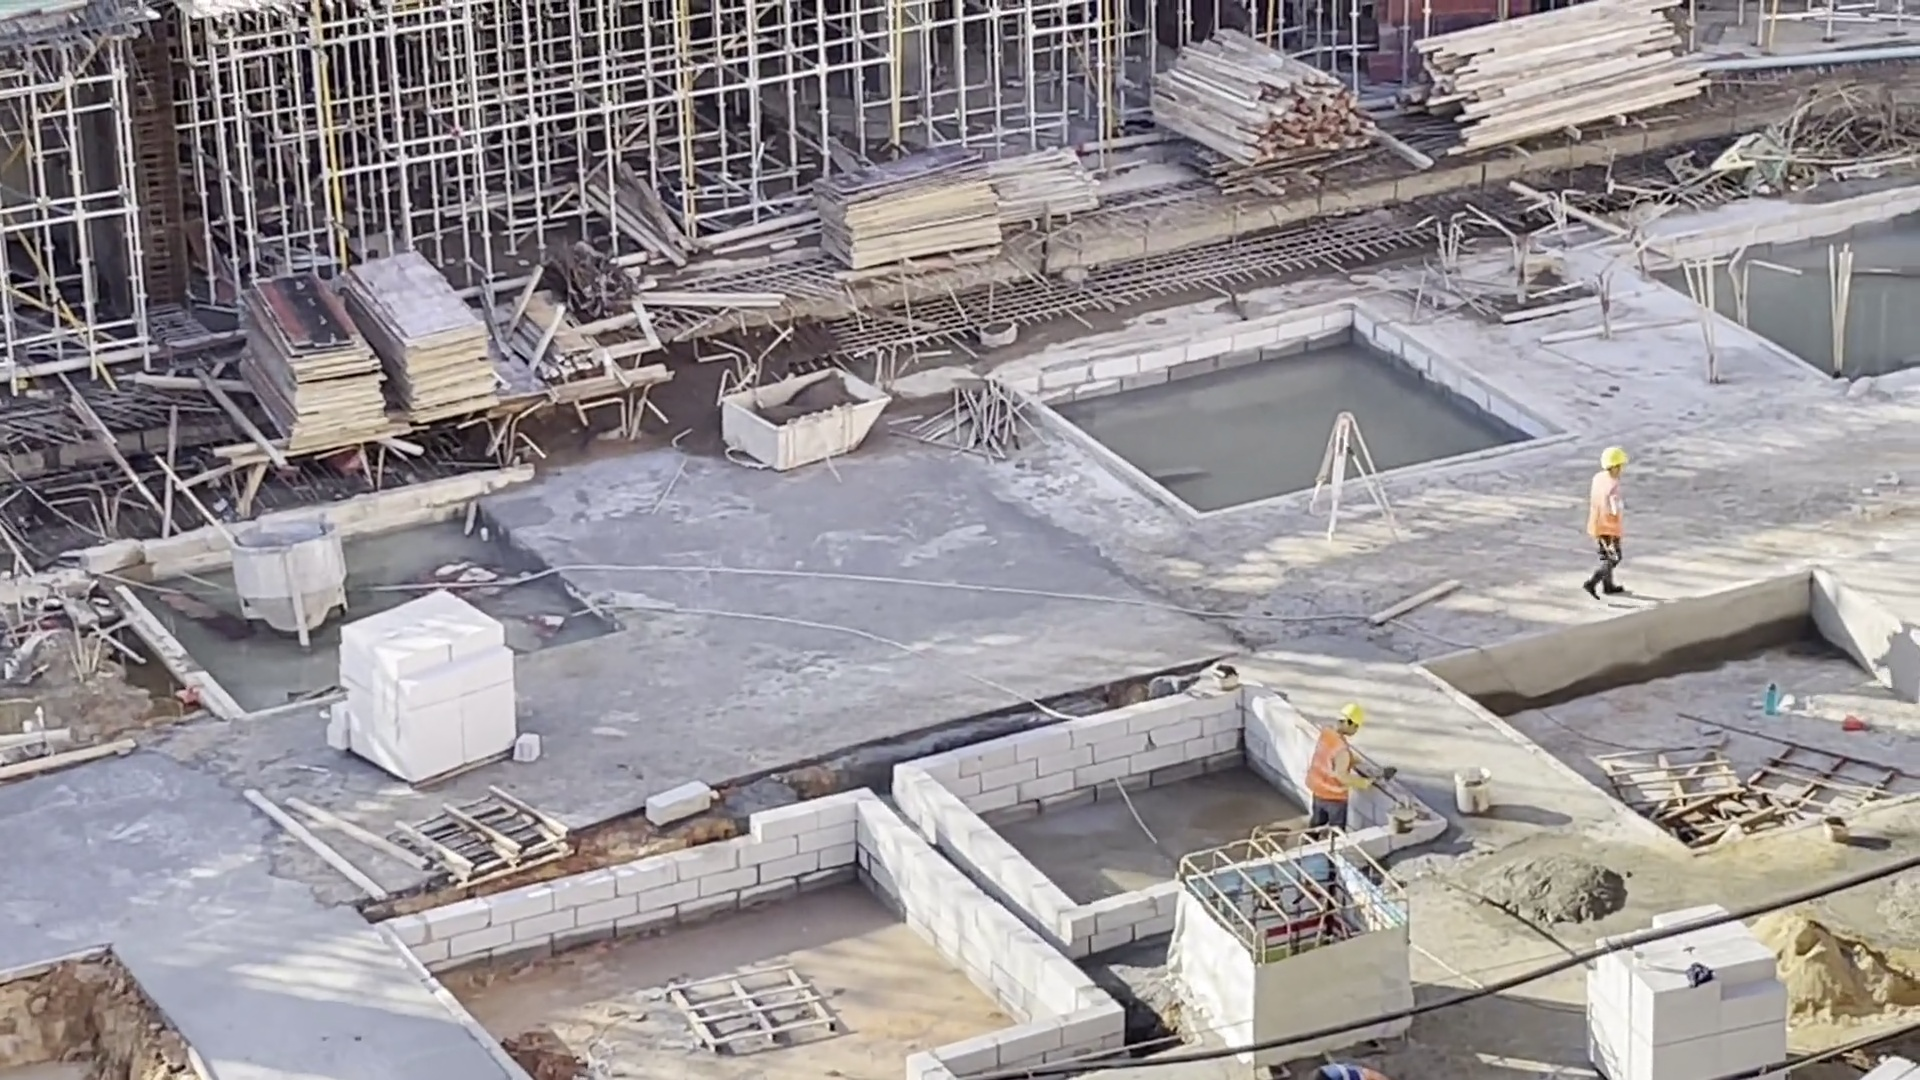board: (369, 274, 486, 421), (274, 291, 388, 431), (819, 184, 974, 271)
brick: (337, 597, 512, 774), (1626, 926, 1794, 1080)
helmet: (1608, 429, 1638, 474), (1336, 709, 1374, 732)
hopper: (706, 369, 894, 466)
person: (1286, 695, 1369, 833), (1583, 443, 1634, 590), (1311, 1054, 1398, 1080)
vest: (1299, 721, 1358, 816), (1583, 471, 1626, 536), (1319, 1061, 1384, 1080)
wood: (1404, 12, 1683, 144), (1163, 41, 1349, 177)
